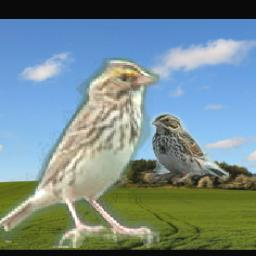Sparrow: (0, 59, 159, 249), (149, 112, 228, 182)
